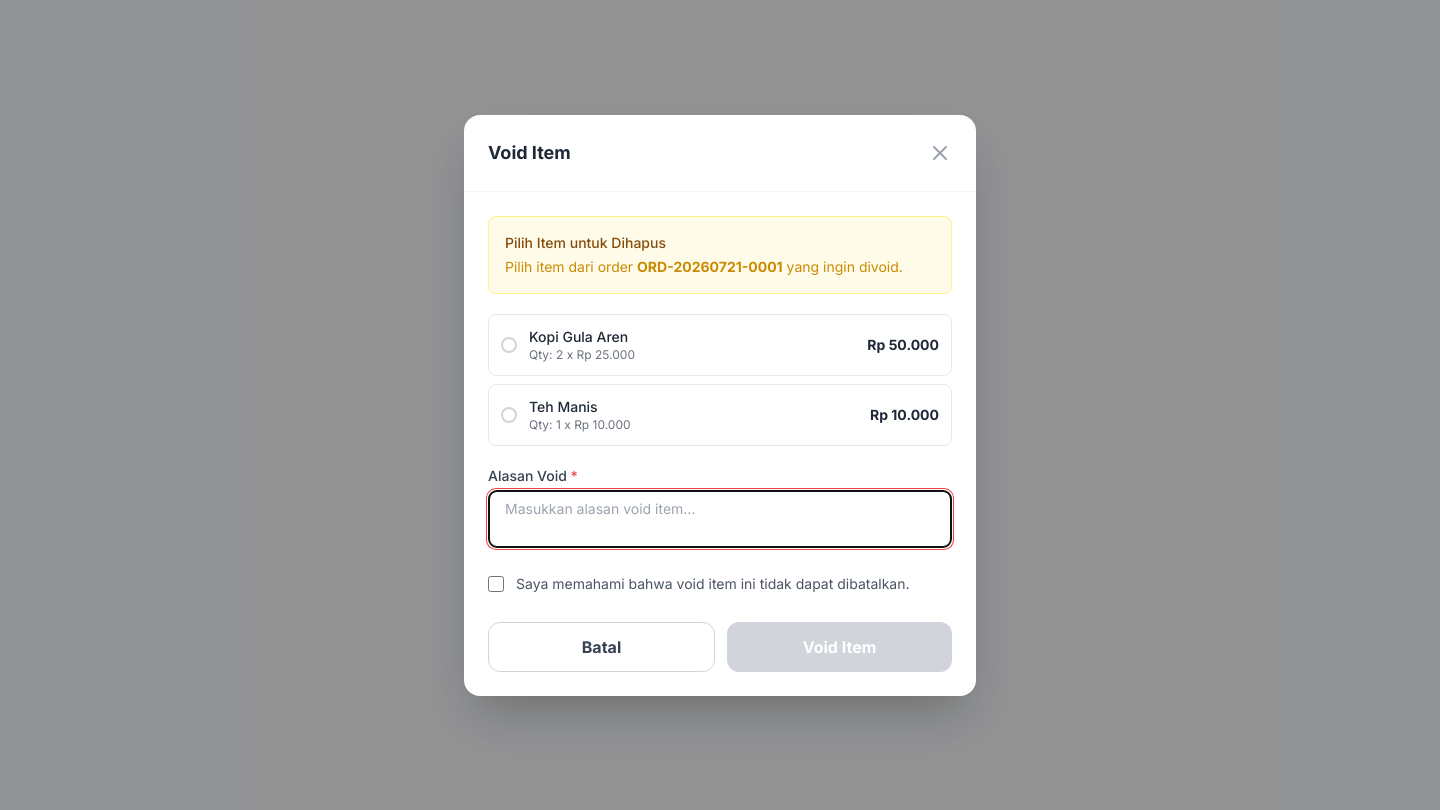
VoidItemModal › submit button is disabled until item selected, reason filled, and confirmed
Expected: the button "Void Item" is disabled, top-left (727, 622), bottom-right (952, 672)
# Select an item
Click the text "Kopi Gula Aren".
click(579, 336)  # box top-left (529, 328), bottom-right (628, 344)
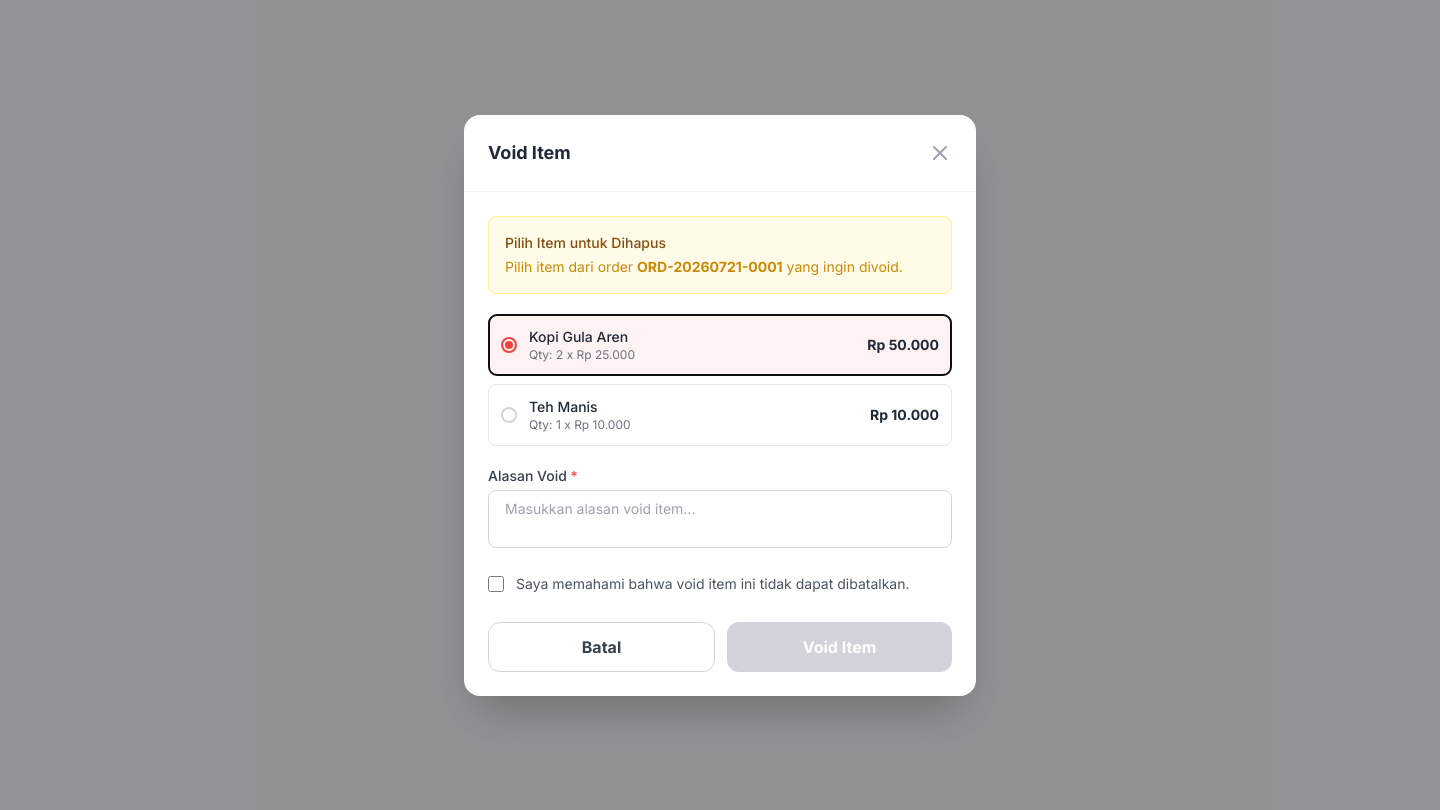
Expected: the button "Void Item" is disabled, top-left (727, 622), bottom-right (952, 672)
# Fill reason
Type "Salah" into the text box with placeholder "Masukkan alasan void item...".
click(720, 518); type("Salah")  # box top-left (488, 490), bottom-right (952, 548)
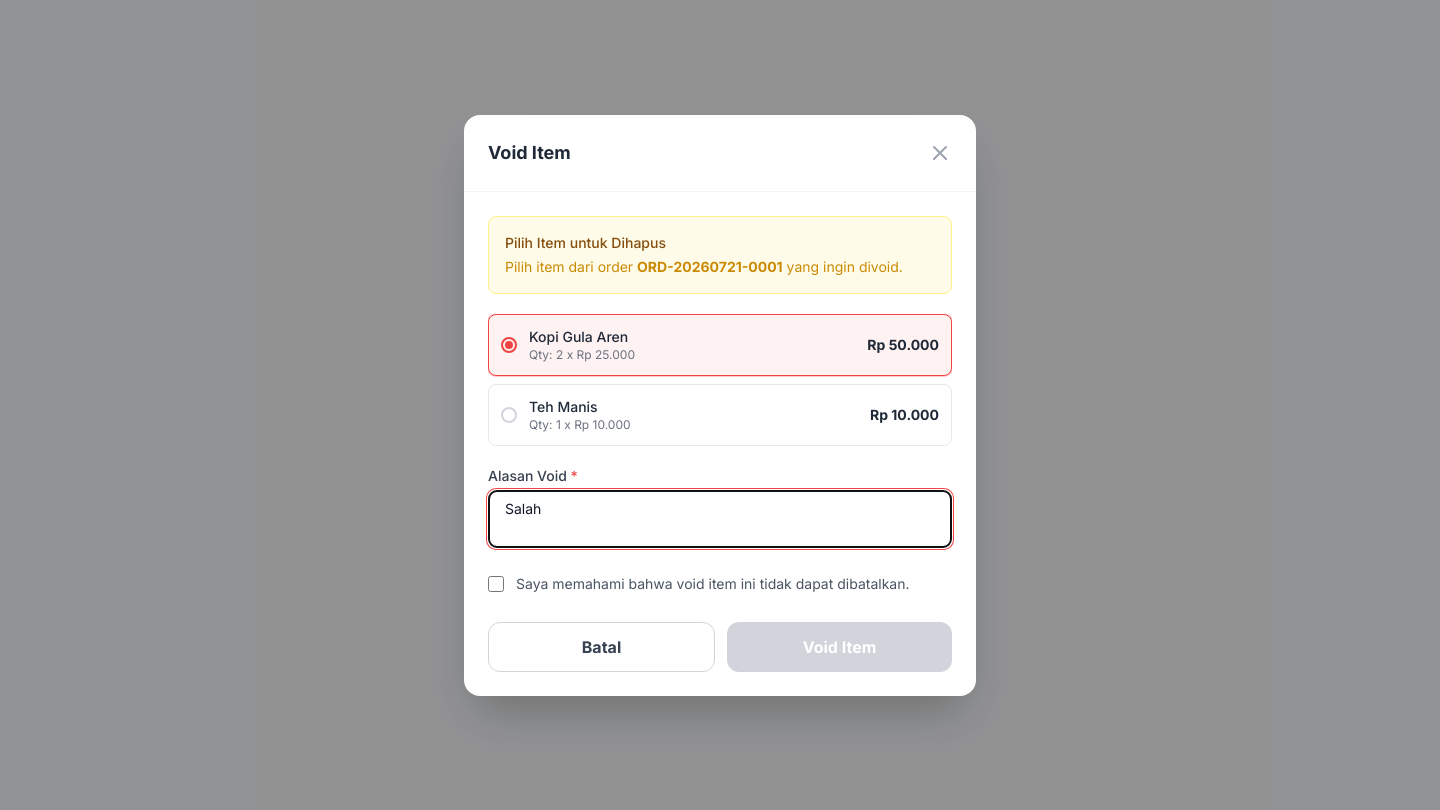
Expected: the button "Void Item" is disabled, top-left (727, 622), bottom-right (952, 672)
# Check confirmation
Click the checkbox.
click(496, 584)  # box top-left (488, 576), bottom-right (504, 592)
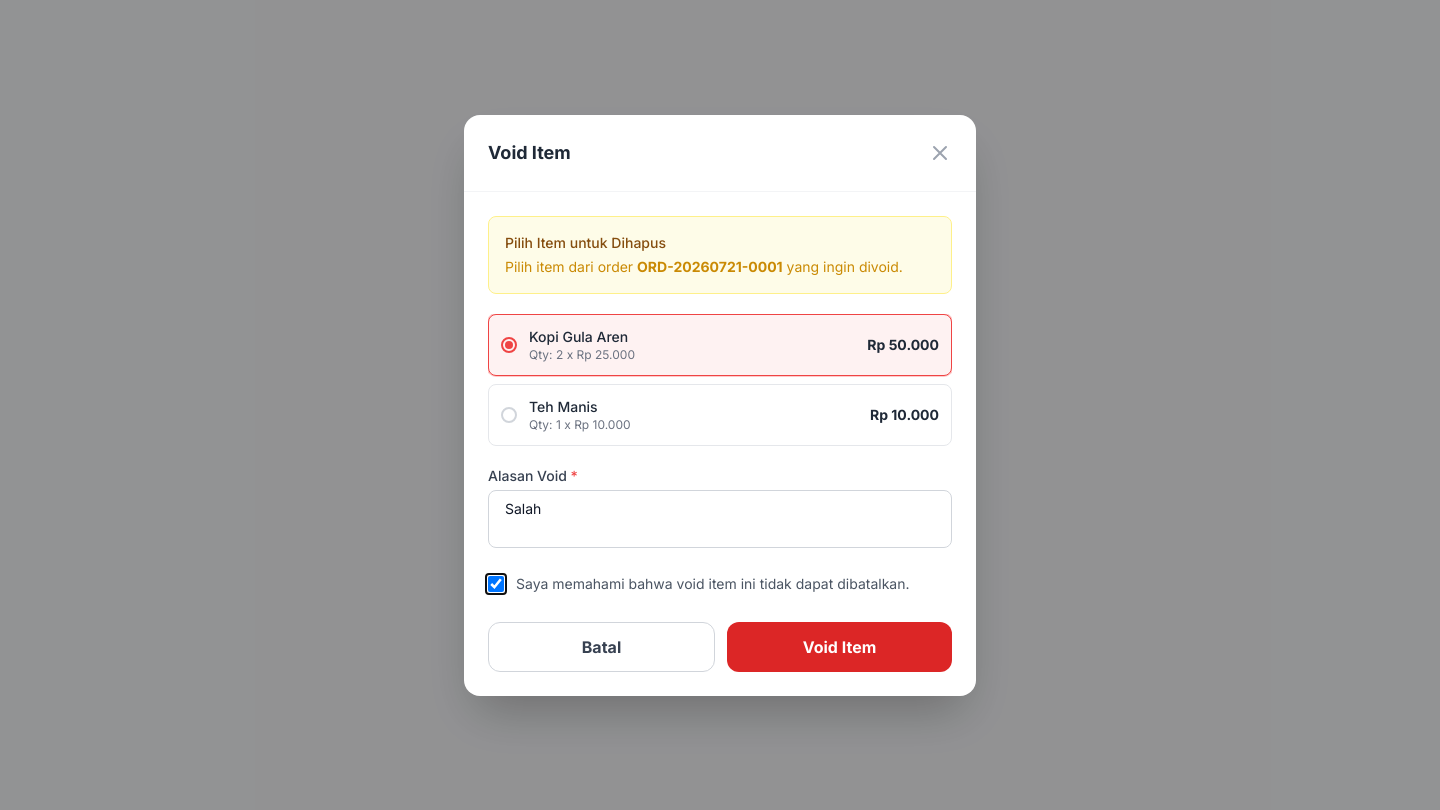
Expected: the button "Void Item" is enabled, top-left (727, 622), bottom-right (952, 672)
